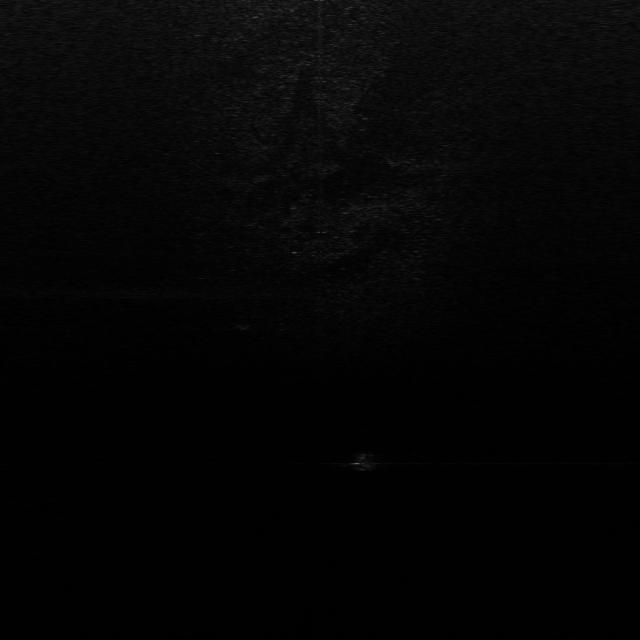ball: (348, 448, 382, 472)
circle cage: (232, 314, 256, 331)
